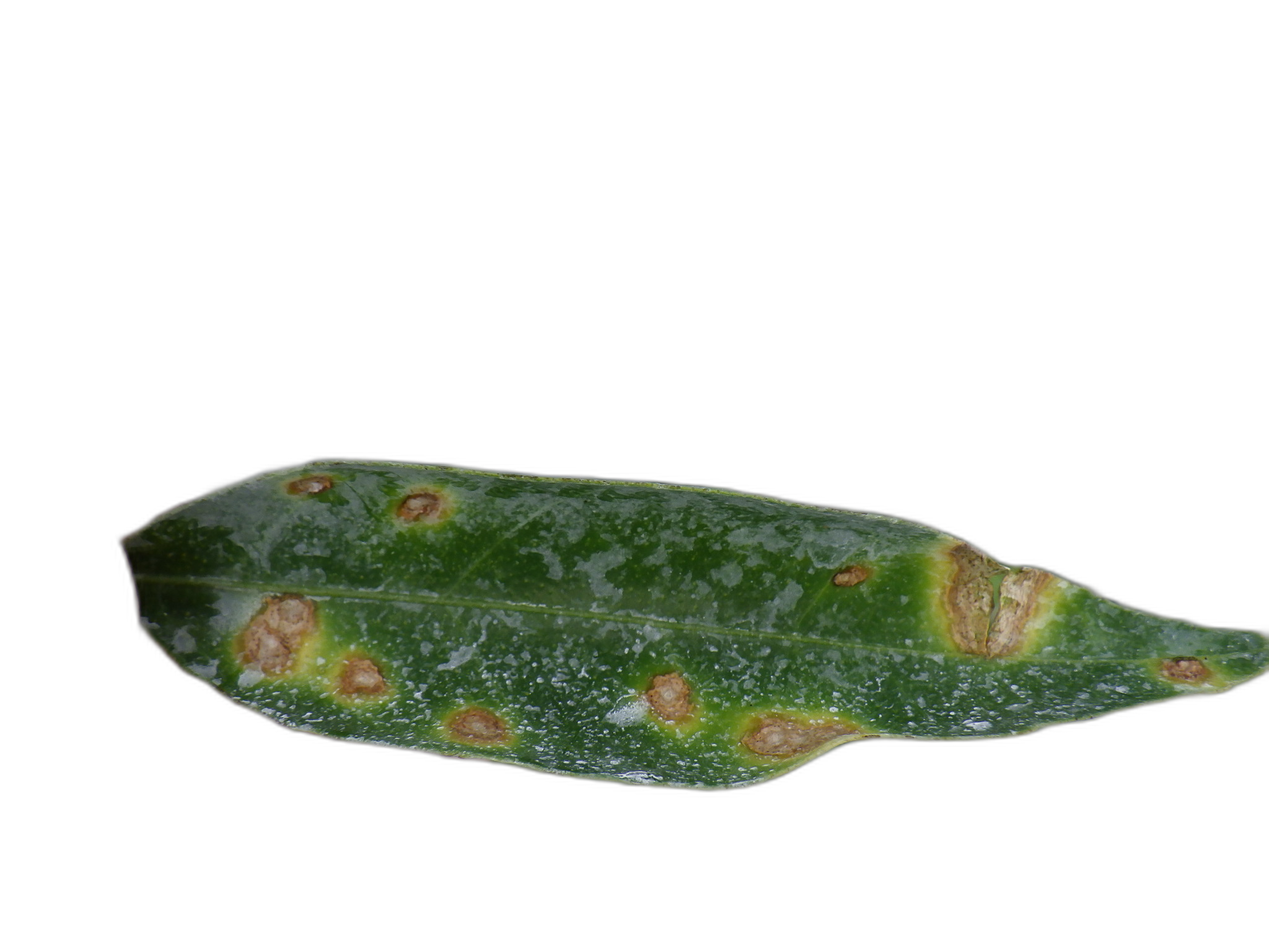Canker: (944, 543, 999, 653), (988, 568, 1053, 654), (242, 596, 314, 673), (743, 716, 856, 757), (446, 706, 509, 745), (395, 486, 455, 525), (646, 673, 692, 721), (340, 658, 385, 693), (1161, 657, 1210, 682), (830, 563, 872, 589), (285, 474, 332, 495)
